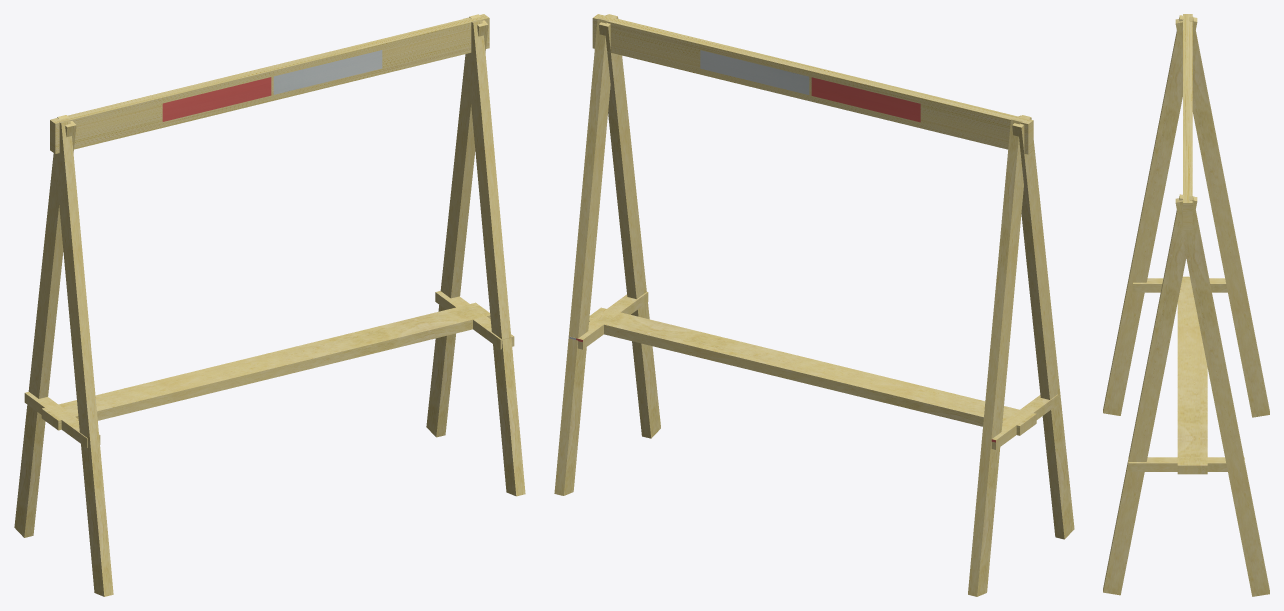
The model's file is usina_EPC_bloqueio_1.FBX.
The picture shows the model from 3 angles, left to right: view 1: azimuth 30°, elevation 25°; view 2: azimuth 150°, elevation 25°; view 3: azimuth 270°, elevation 25°; orthographic projection. The views are drawn at different scales.
Parts seen in each view (by area): view 1: Object001; view 2: Object001; view 3: Object001.
Boxes of the visible parts, box(x1,y1,x2,y2) form: Object001: box(14, 14, 525, 596); Object001: box(554, 14, 1074, 596); Object001: box(1103, 14, 1269, 596).
Size of the model in its own units: 132 by 129 by 49.25.
Materials: 1 (1 with a texture image).
